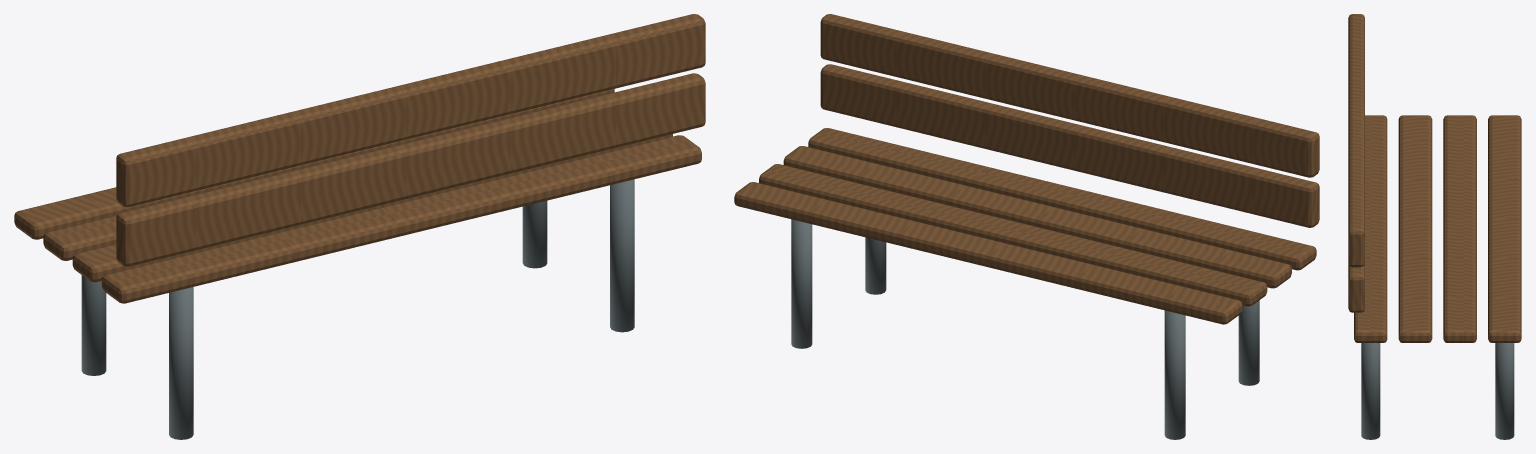
File: mc_bench.glb
3 views of the same model, side by side, from view 1: azimuth 30°, elevation 25°; view 2: azimuth 150°, elevation 25°; view 3: azimuth 270°, elevation 25° (orthographic). The views are drawn at different scales.
Parts seen in each view (by area): view 1: mc_bench__Geometry; view 2: mc_bench__Geometry; view 3: mc_bench__Geometry.
Boxes of the visible parts, x1,y1,x2,y2 form: mc_bench__Geometry: (14, 14, 705, 439); mc_bench__Geometry: (734, 14, 1319, 439); mc_bench__Geometry: (1348, 14, 1521, 439).
Size of the model in its own units: 1.85 by 0.915 by 0.62.
2 materials, 1 textured.
